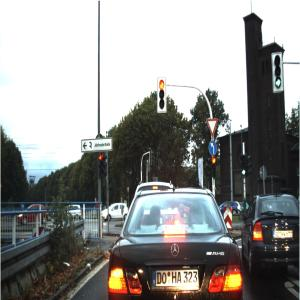give way: (207, 119, 219, 138)
go left: (210, 141, 218, 157)
